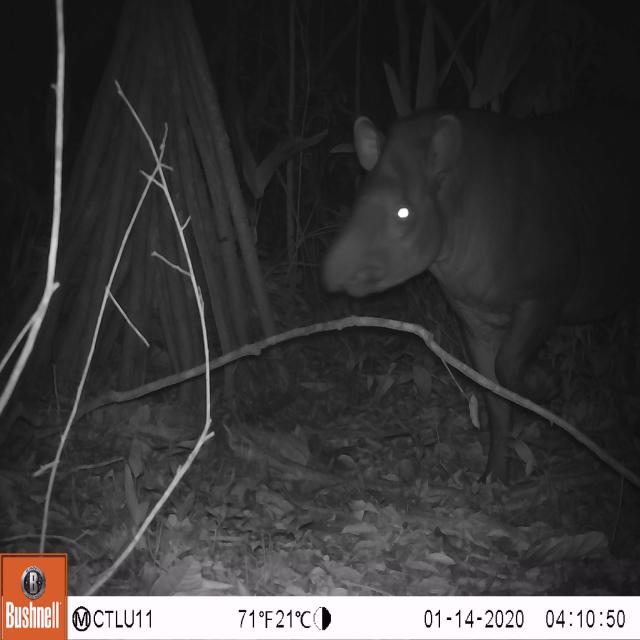Lowland Tapir: (321, 102, 634, 486)
